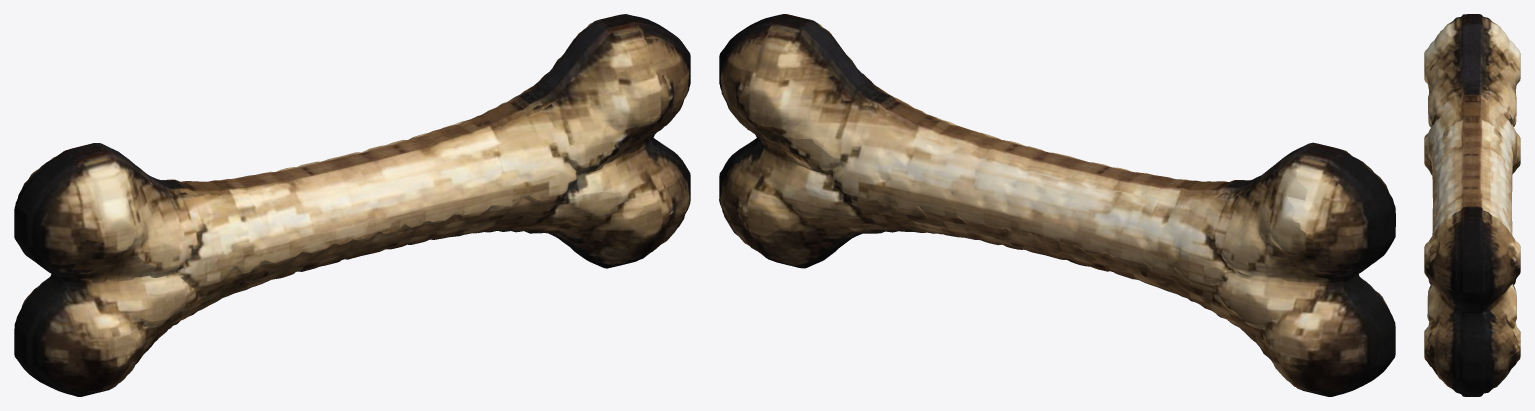
Rendered from Bone.glb.
3 renders of one model, left to right at view 1: azimuth 30°, elevation 25°; view 2: azimuth 150°, elevation 25°; view 3: azimuth 270°, elevation 25°, orthographic. The views are drawn at different scales.
Visible parts, largest first — view 1: tmpbq1v5tgy.ply; view 2: tmpbq1v5tgy.ply; view 3: tmpbq1v5tgy.ply.
Part boxes in pixels (bbox=[...]): tmpbq1v5tgy.ply: bbox=[14, 14, 690, 396]; tmpbq1v5tgy.ply: bbox=[719, 14, 1395, 396]; tmpbq1v5tgy.ply: bbox=[1424, 14, 1520, 396].
Bounding box in the file's own units: 1.96 × 0.6757 × 0.3296.
Materials: 1 (1 with a texture image).
